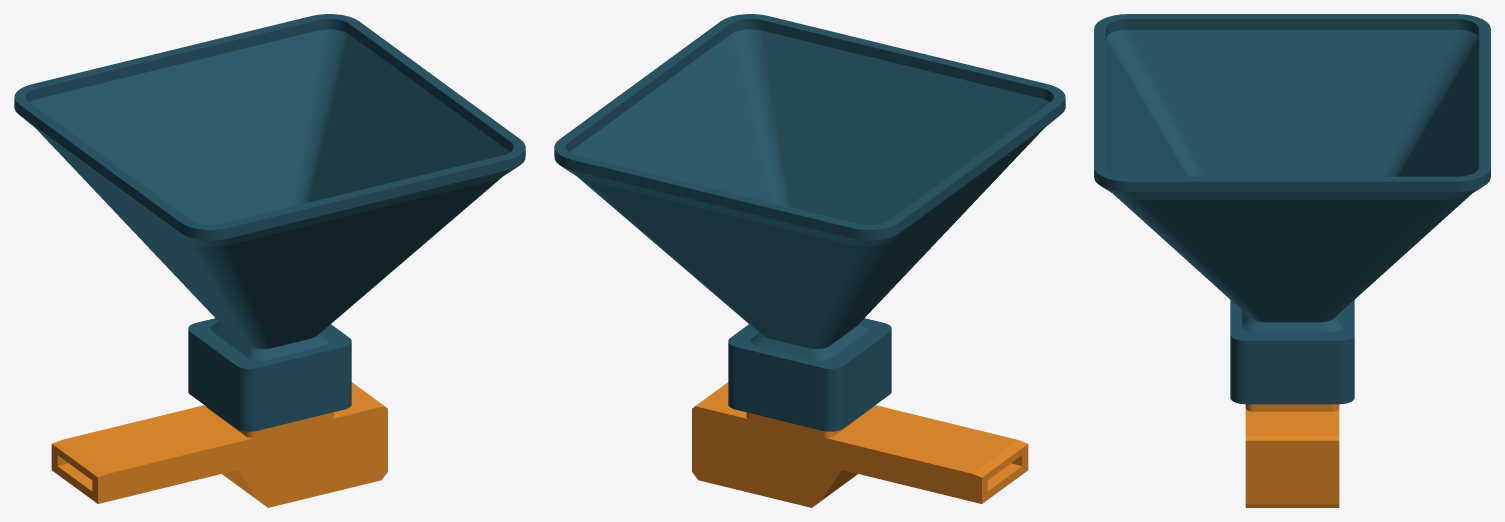
Rendered from assembly.glb.
The picture shows the model from 3 angles, left to right: view 1: azimuth 30°, elevation 25°; view 2: azimuth 150°, elevation 25°; view 3: azimuth 270°, elevation 25°; orthographic projection.
Visible parts, largest first — view 1: directional_horn, whistle_core; view 2: directional_horn, whistle_core; view 3: directional_horn, whistle_core.
Boxes of the visible parts, <box> form: directional_horn: <box>14,14,525,431</box>; whistle_core: <box>51,382,387,507</box>; directional_horn: <box>554,14,1065,431</box>; whistle_core: <box>692,382,1028,507</box>; directional_horn: <box>1094,14,1490,404</box>; whistle_core: <box>1245,404,1339,507</box>.
Size of the model in its own units: 0.1095 by 0.104 by 0.102.
